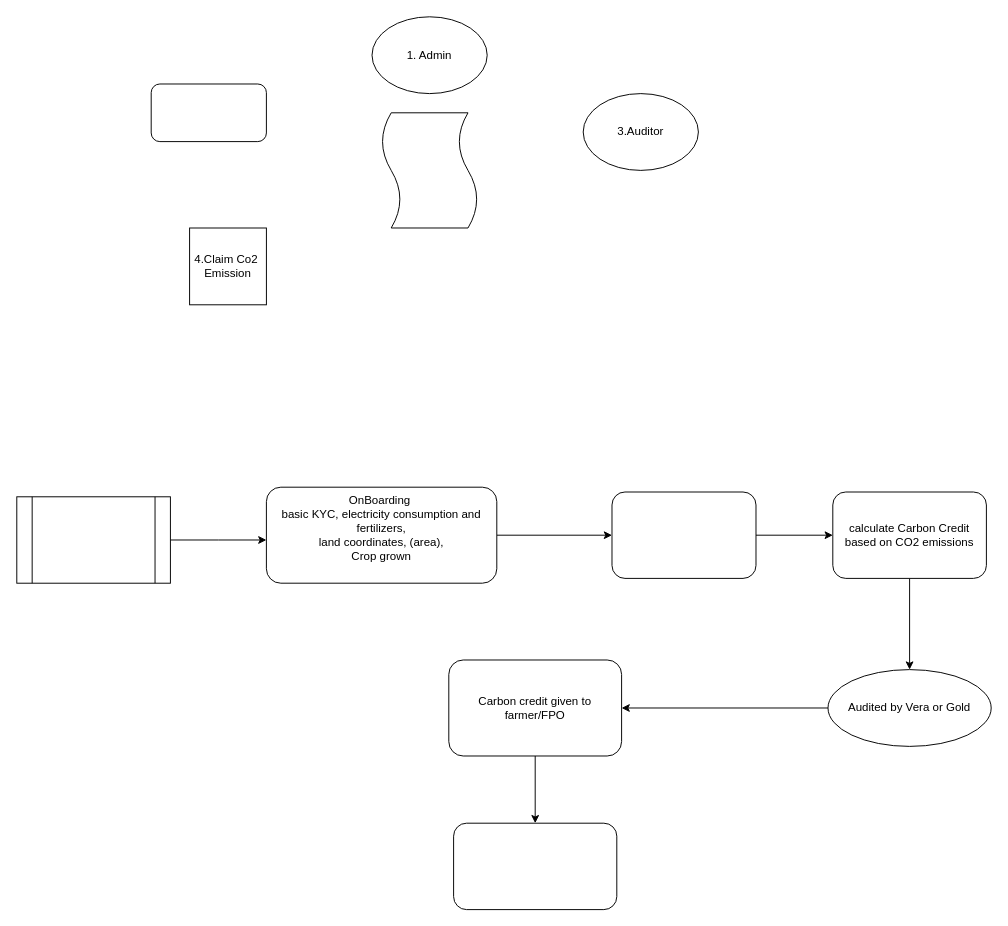
This 1008x926 diagram has some shape labels left out. Here are the shapes that lost their labels. From the top down, the centre of each, then its label:
At pixel 208 112: "2 Project Owner".
At pixel 93 539: "Log in/ Sign up for Farmer/ FPO".
At pixel 683 534: "Data from Sensor Neo Auro IOT Device".
At pixel 535 866: "Marketplace Trading Carbon credit".
